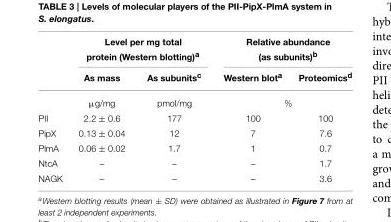table: (37, 37, 351, 182)
table column: (211, 37, 289, 182), (135, 37, 211, 182), (69, 37, 135, 182), (289, 37, 351, 182), (37, 37, 69, 182)
table column header: (37, 37, 351, 89)
table row: (37, 37, 351, 66), (37, 66, 351, 89), (37, 89, 351, 110), (37, 110, 351, 125), (37, 125, 351, 140), (37, 140, 351, 155), (37, 155, 351, 170), (37, 170, 351, 182)
table spanning cell: (69, 37, 211, 66), (211, 37, 351, 66), (211, 89, 351, 110)
